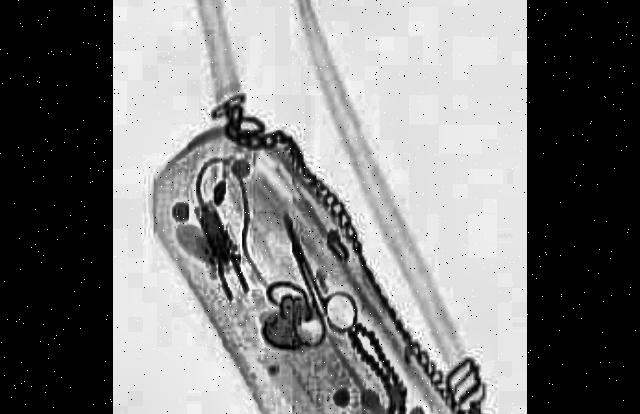Scissors: (266, 188, 364, 370)
